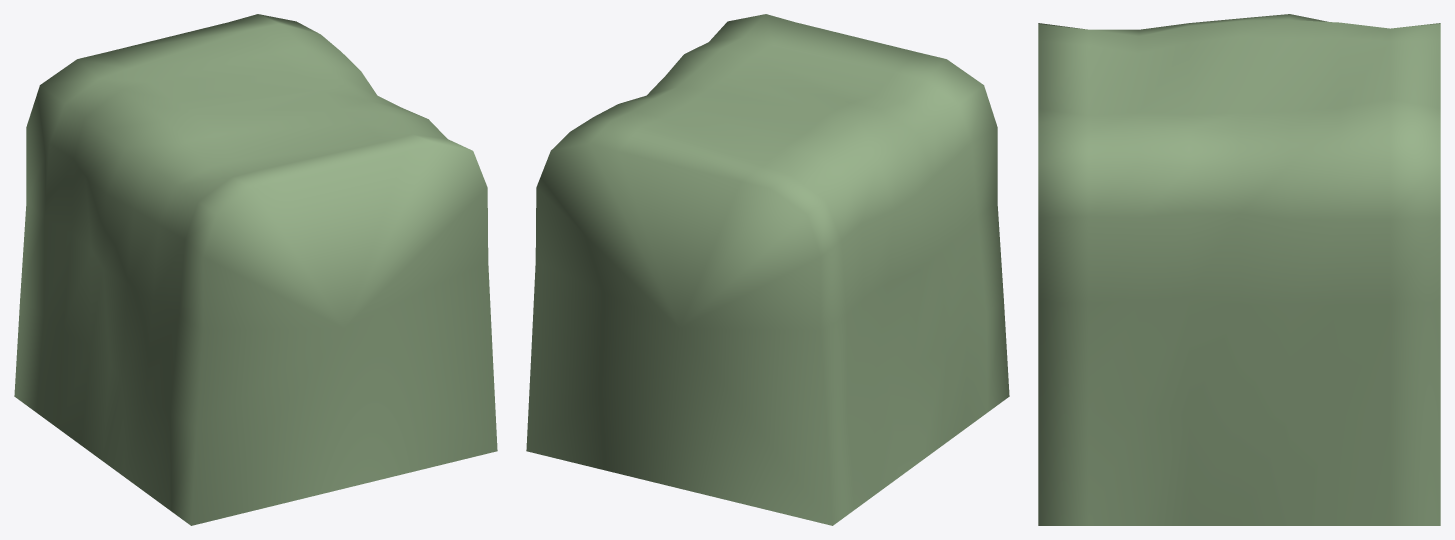
File: hedge_run.glb
3 renders of one model, left to right at view 1: azimuth 30°, elevation 25°; view 2: azimuth 150°, elevation 25°; view 3: azimuth 270°, elevation 25°, orthographic. The views are drawn at different scales.
Visible parts, largest first — view 1: hedge_run; view 2: hedge_run; view 3: hedge_run.
Part boxes in pixels (<box>): hedge_run: <box>14,14,497,525</box>; hedge_run: <box>526,14,1009,525</box>; hedge_run: <box>1038,14,1440,525</box>.
Size of the model in its own units: 1.02 by 1.03 by 0.9999.
